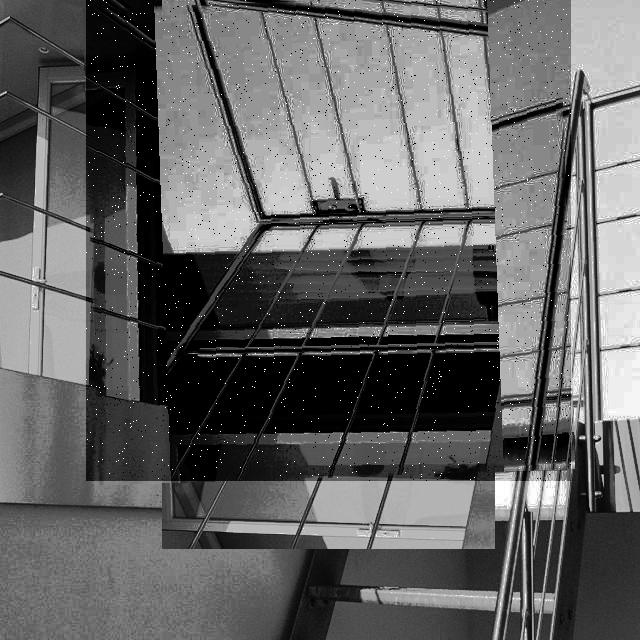fences: (86, 0, 571, 481)
